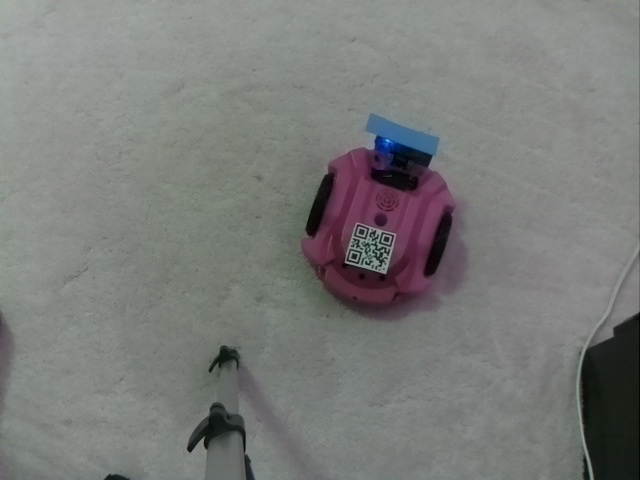chassis: (301, 104, 455, 309)
qr: (342, 217, 408, 282)
